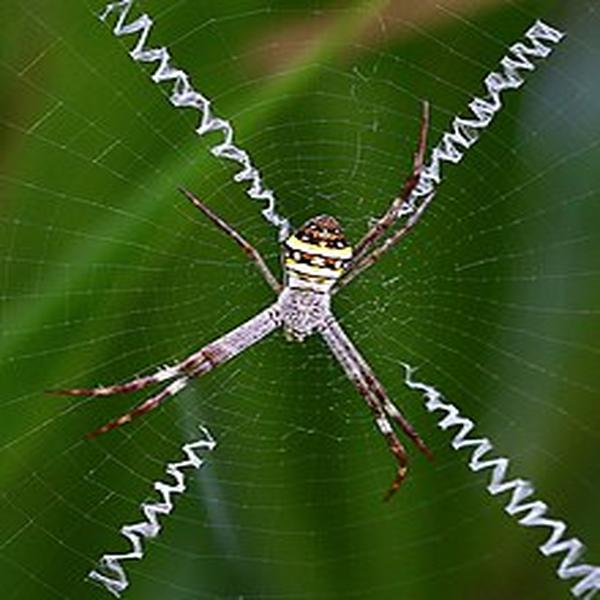St Andrew's Cross Spider: (88, 116, 434, 478)
